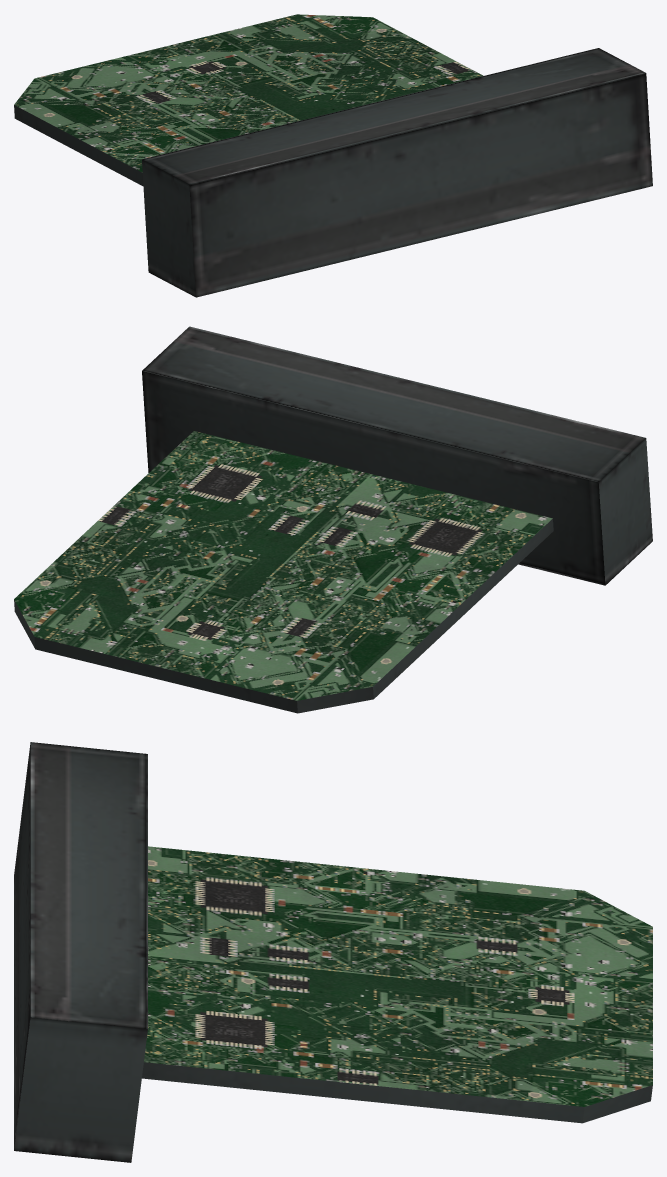
File: Controller_04.fbx
The picture shows the model from 3 angles, top to bottom: view 1: azimuth 30°, elevation 25°; view 2: azimuth 150°, elevation 25°; view 3: azimuth 270°, elevation 25°; orthographic projection. The views are drawn at different scales.
Parts seen in each view (by area): view 1: Controller_04; view 2: Controller_04; view 3: Controller_04.
Part boxes in pixels (box(x1,y1,x2,y2)): Controller_04: box(14, 14, 652, 297); Controller_04: box(14, 326, 652, 713); Controller_04: box(14, 742, 652, 1162).
Size of the model in its own units: 17.09 by 4.21 by 16.77.
